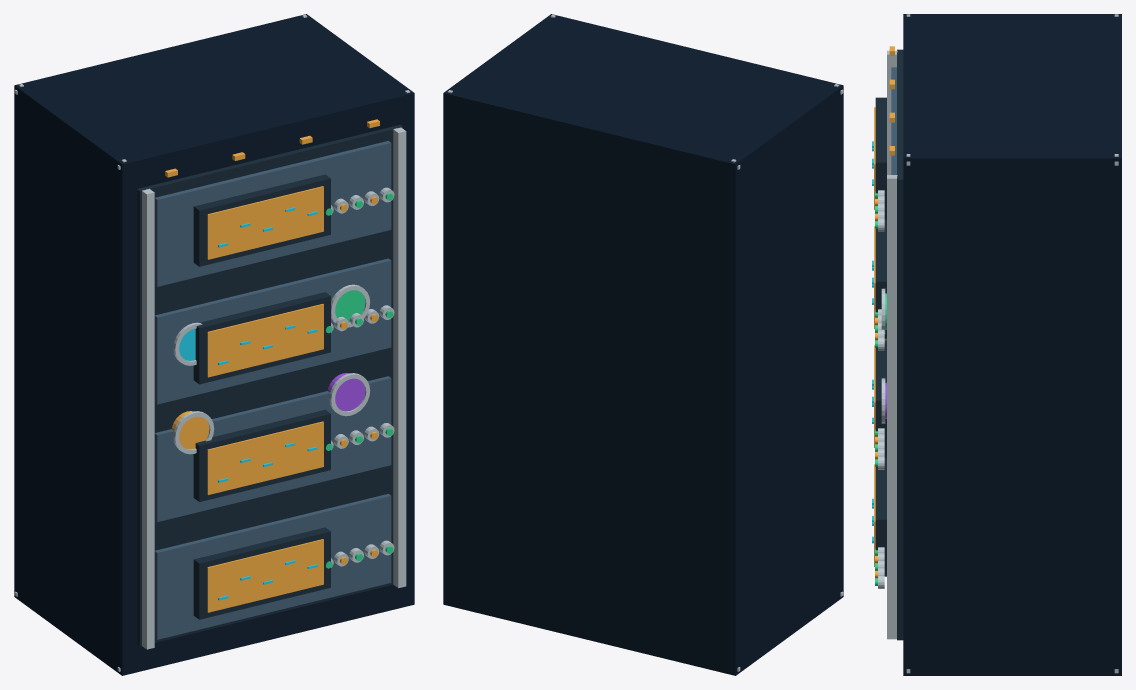
The model's file is 09_L80_MultiWavelengthLaserSourceRack.fbx.
3 views of the same model, side by side, from view 1: azimuth 30°, elevation 25°; view 2: azimuth 150°, elevation 25°; view 3: azimuth 270°, elevation 25° (orthographic).
Parts seen in each view (by area): view 1: MultiWavelengthLaserSourceRack; view 2: MultiWavelengthLaserSourceRack; view 3: MultiWavelengthLaserSourceRack.
Part boxes in pixels (x1=…): MultiWavelengthLaserSourceRack: x1=14, y1=14, x2=414, y2=675; MultiWavelengthLaserSourceRack: x1=443, y1=14, x2=843, y2=675; MultiWavelengthLaserSourceRack: x1=872, y1=14, x2=1121, y2=675.
Bounding box in the file's own units: 227 × 378 × 164.
